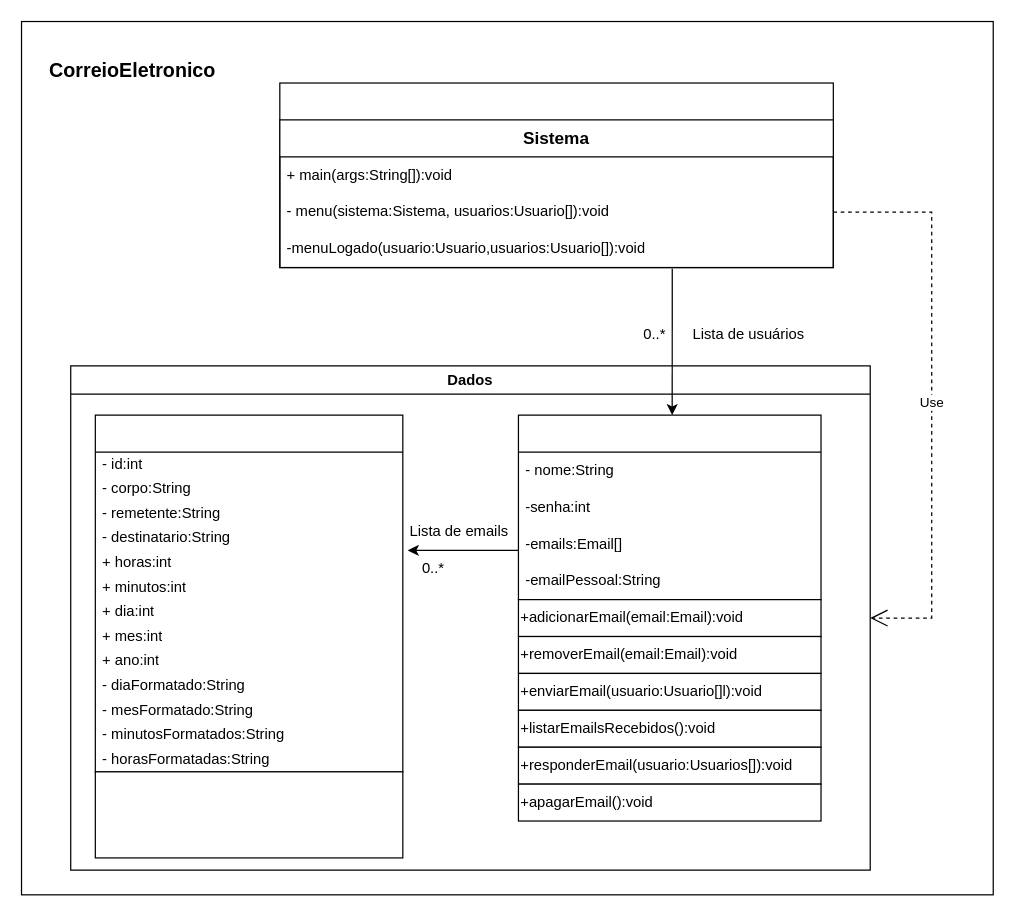
This 1015x916 diagram has some shape labels left out. Each missing label, with the box of its shape:
+criptografar(textoRecebido:String) +descriptografar(textoRecebido:String): (94, 771, 403, 858)
Email: (94, 414, 403, 772)
negocio: (279, 82, 833, 268)
Usuário: (517, 414, 821, 600)
